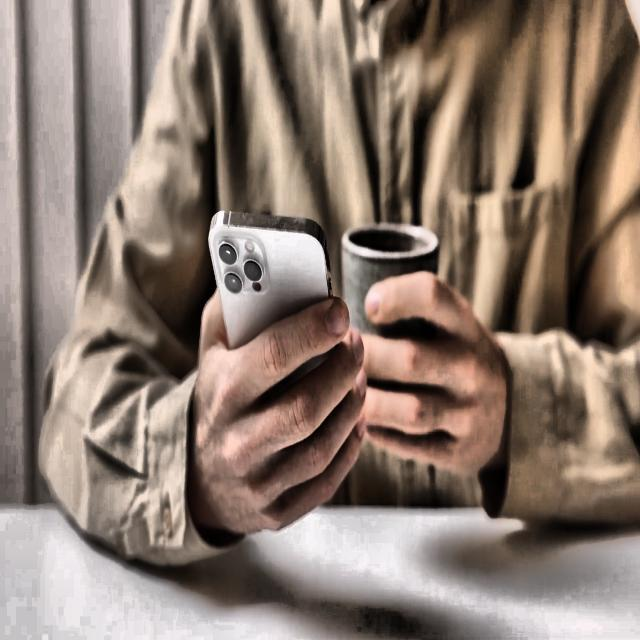Phone: (207, 208, 334, 356)
